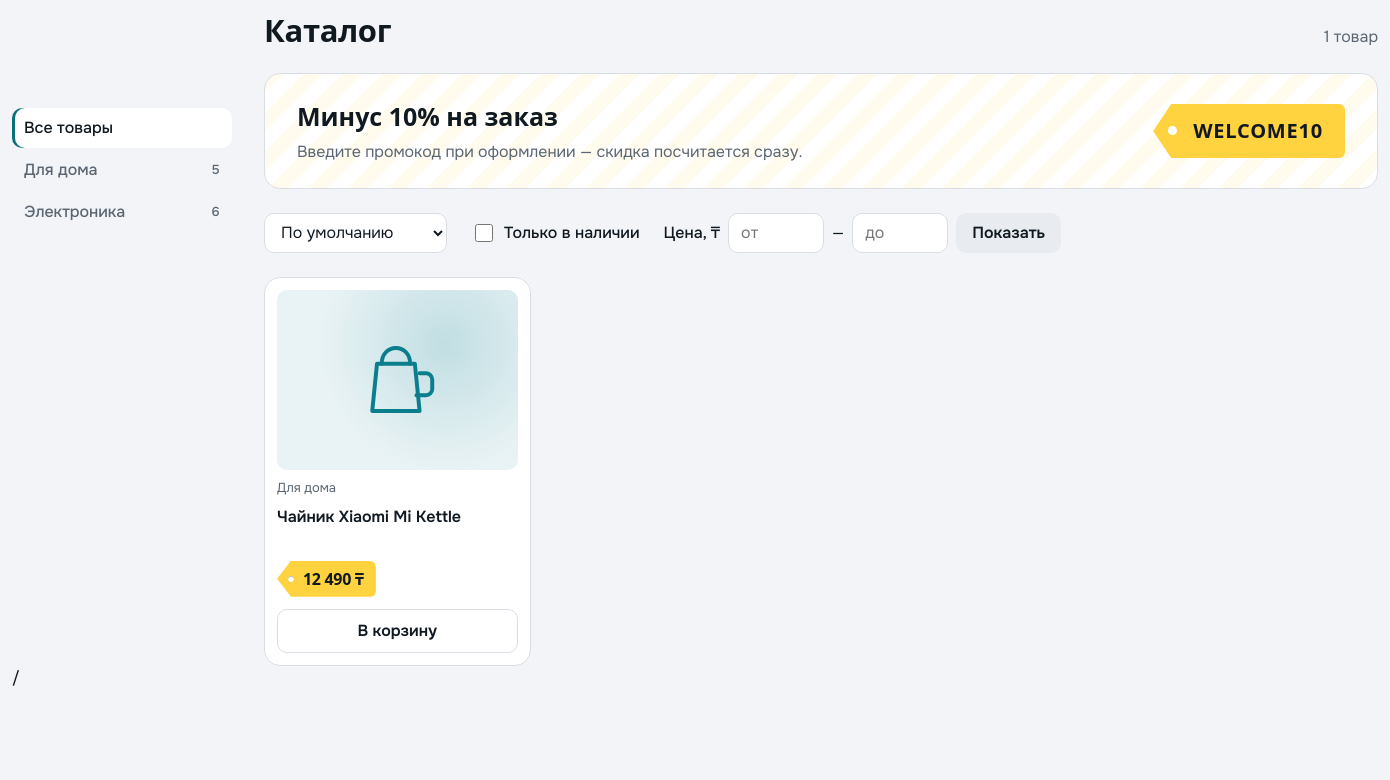
Test: цена «от» больше «до» — подсказка, запрос не уходит
The image size is (1390, 780).
Expected: the element with test id "product-card" is shown, [264,277,530,666]
In the field named "Цена от, тенге": {"x": 776, "y": 233} [728,213,824,253], type "5000"
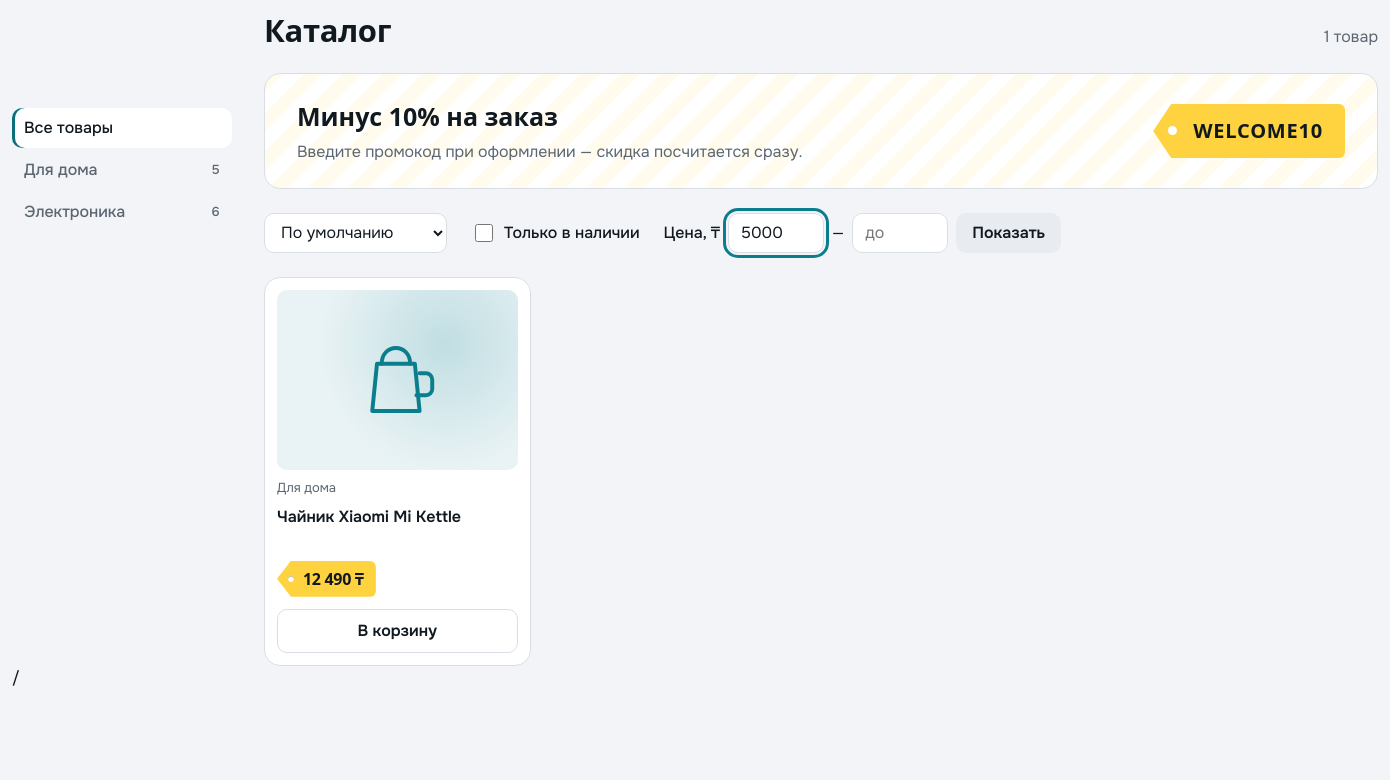
In the field named "Цена до, тенге": {"x": 900, "y": 233} [852,213,948,253], type "100"
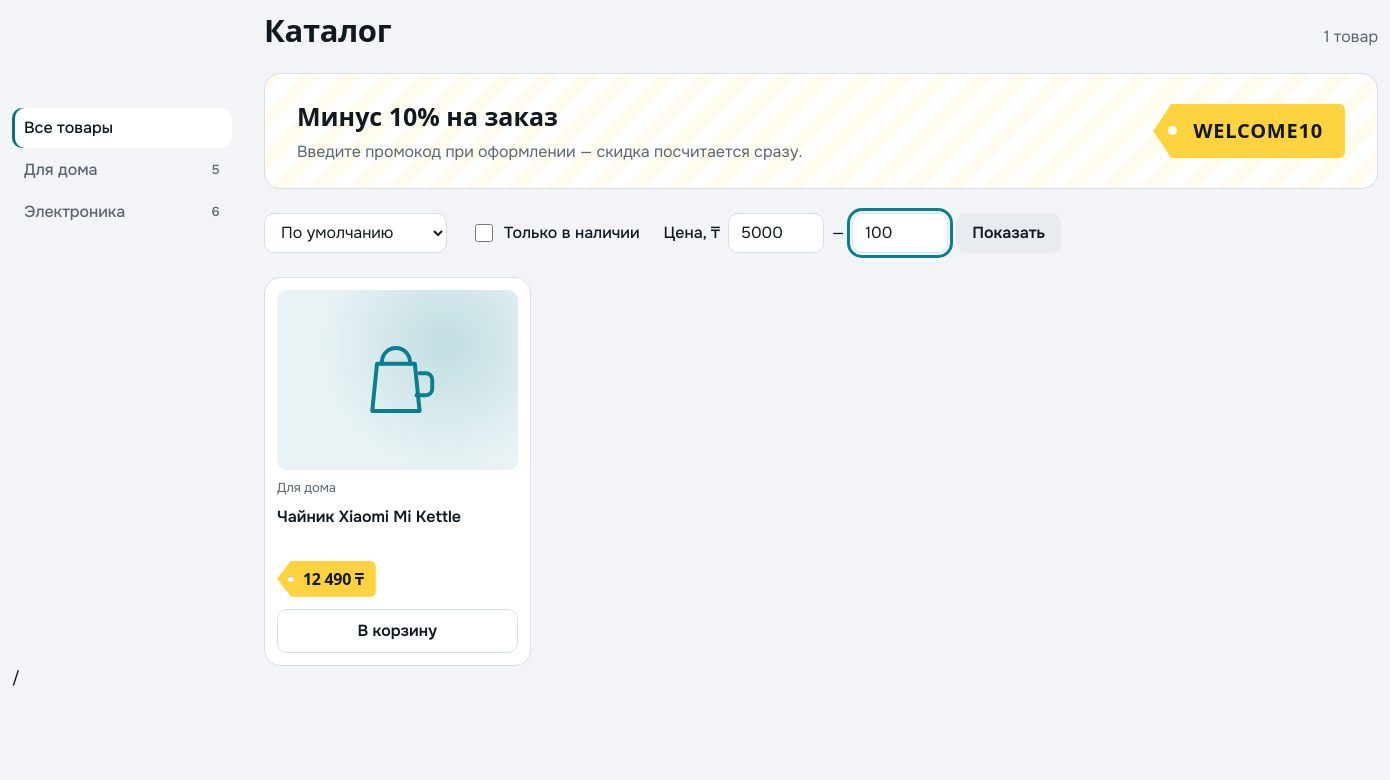
Click the button "Показать": {"x": 1009, "y": 233} [956,213,1061,253]
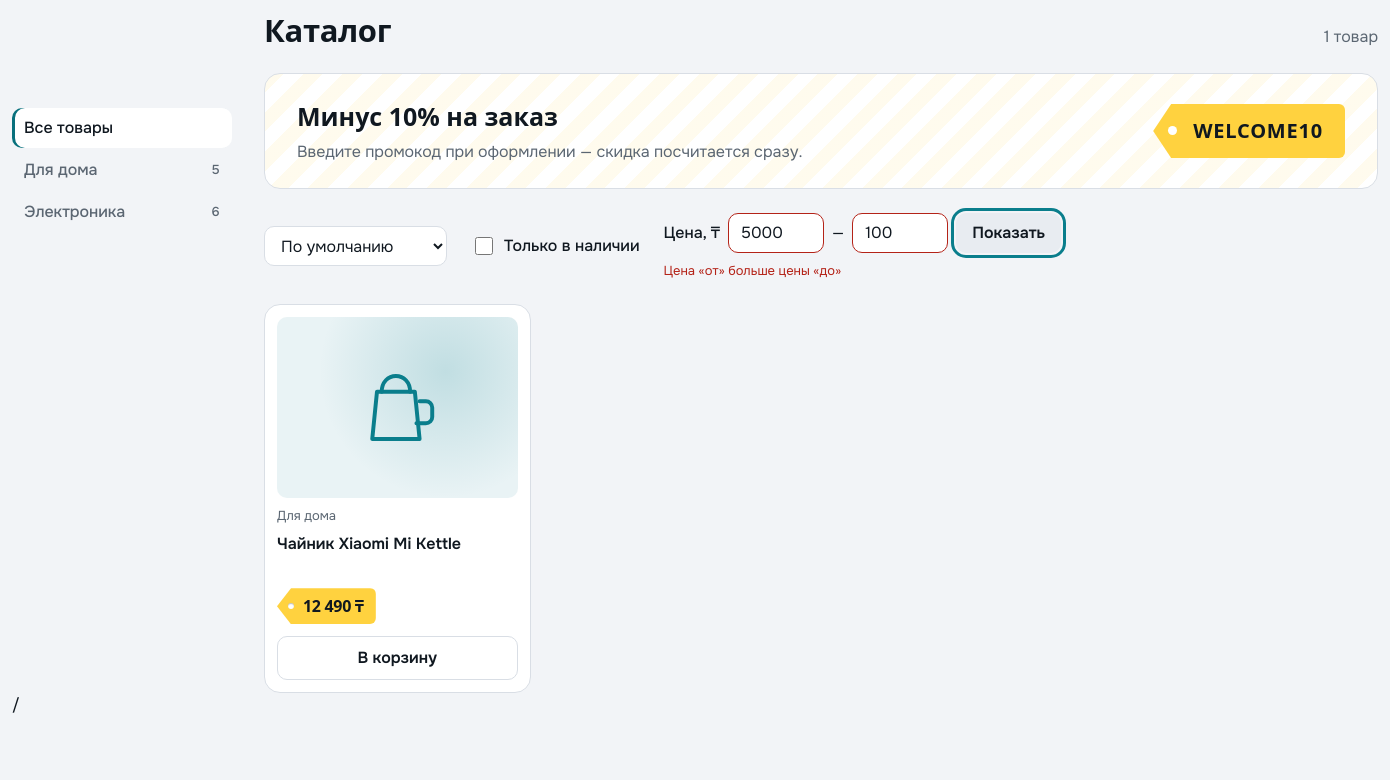
Expected: the text with test id "location" reads "/", [12,694,20,715]
Now the message reads "Цена «от» больше цены «до»", box [664,262,841,279]
